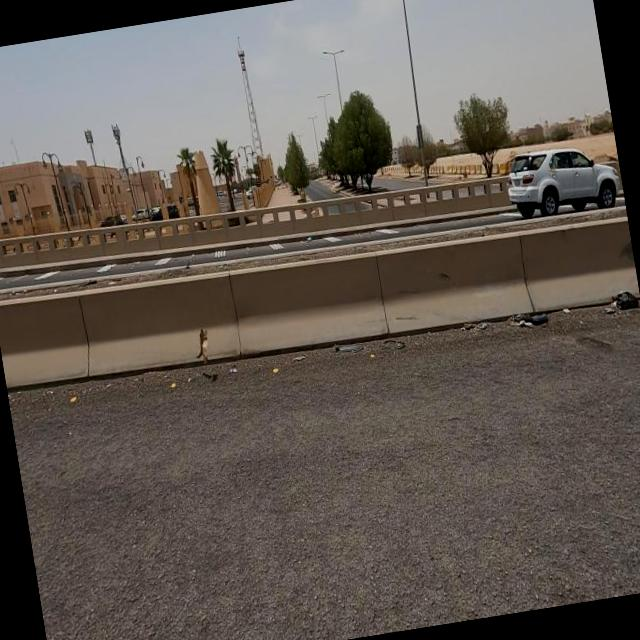debris: (467, 252, 601, 376), (422, 272, 526, 383), (344, 292, 435, 395), (564, 253, 640, 358), (296, 306, 384, 394), (176, 332, 243, 416)
